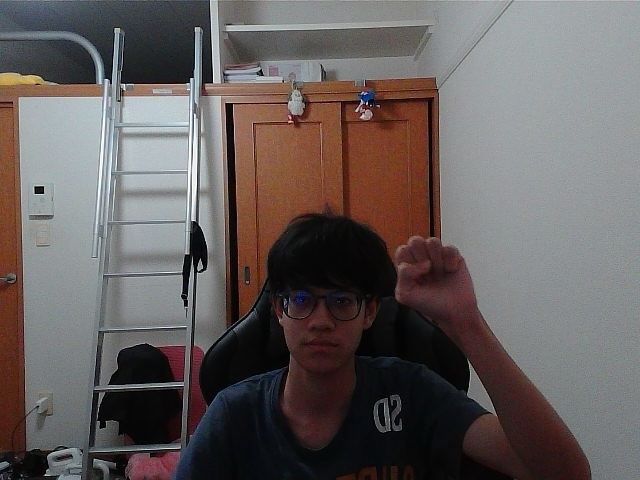closed_palm: (400, 240, 456, 312)
